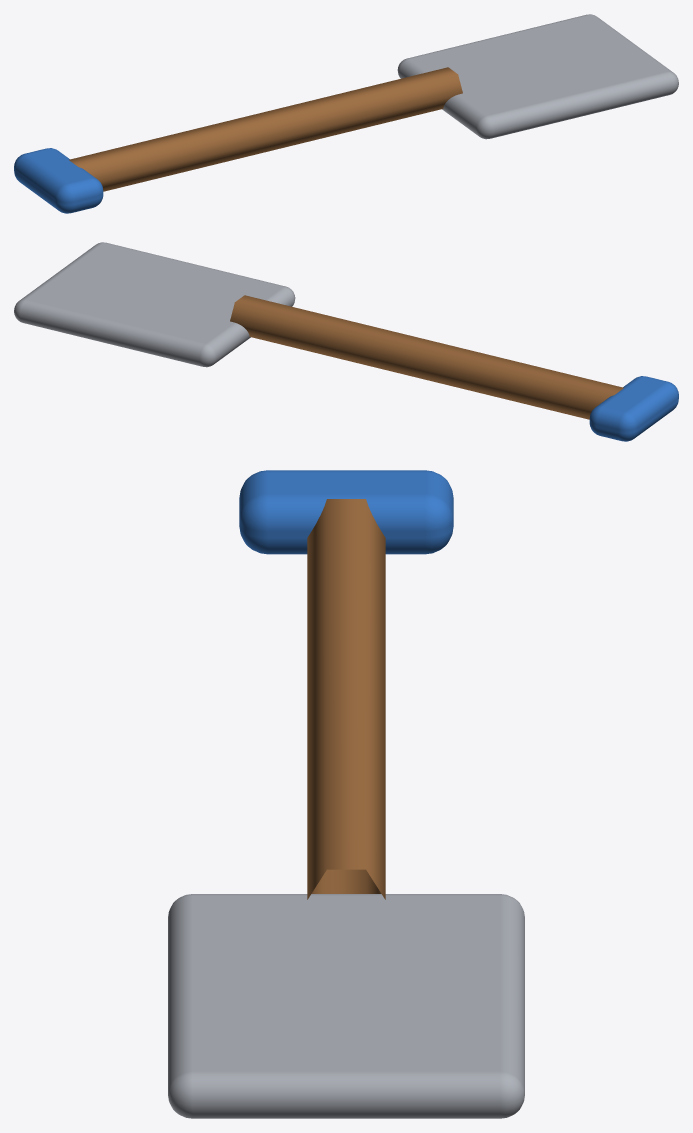
The model's file is item_tool_shovel.glb.
The picture shows the model from 3 angles, top to bottom: view 1: azimuth 30°, elevation 25°; view 2: azimuth 150°, elevation 25°; view 3: azimuth 270°, elevation 25°; orthographic projection. The views are drawn at different scales.
Parts seen in each view (by area): view 1: item_tool_shovel_gloss, item_tool_shovel_main; view 2: item_tool_shovel_gloss, item_tool_shovel_main; view 3: item_tool_shovel_gloss, item_tool_shovel_main.
Part boxes in pixels (x1,y1,x2,y2): item_tool_shovel_gloss: (397, 14, 678, 139); item_tool_shovel_main: (14, 67, 462, 213); item_tool_shovel_gloss: (14, 242, 295, 367); item_tool_shovel_main: (230, 295, 678, 441); item_tool_shovel_gloss: (168, 894, 524, 1118); item_tool_shovel_main: (239, 470, 453, 899).
Bounding box in the file's own units: 0.39 × 0.024 × 0.1.
